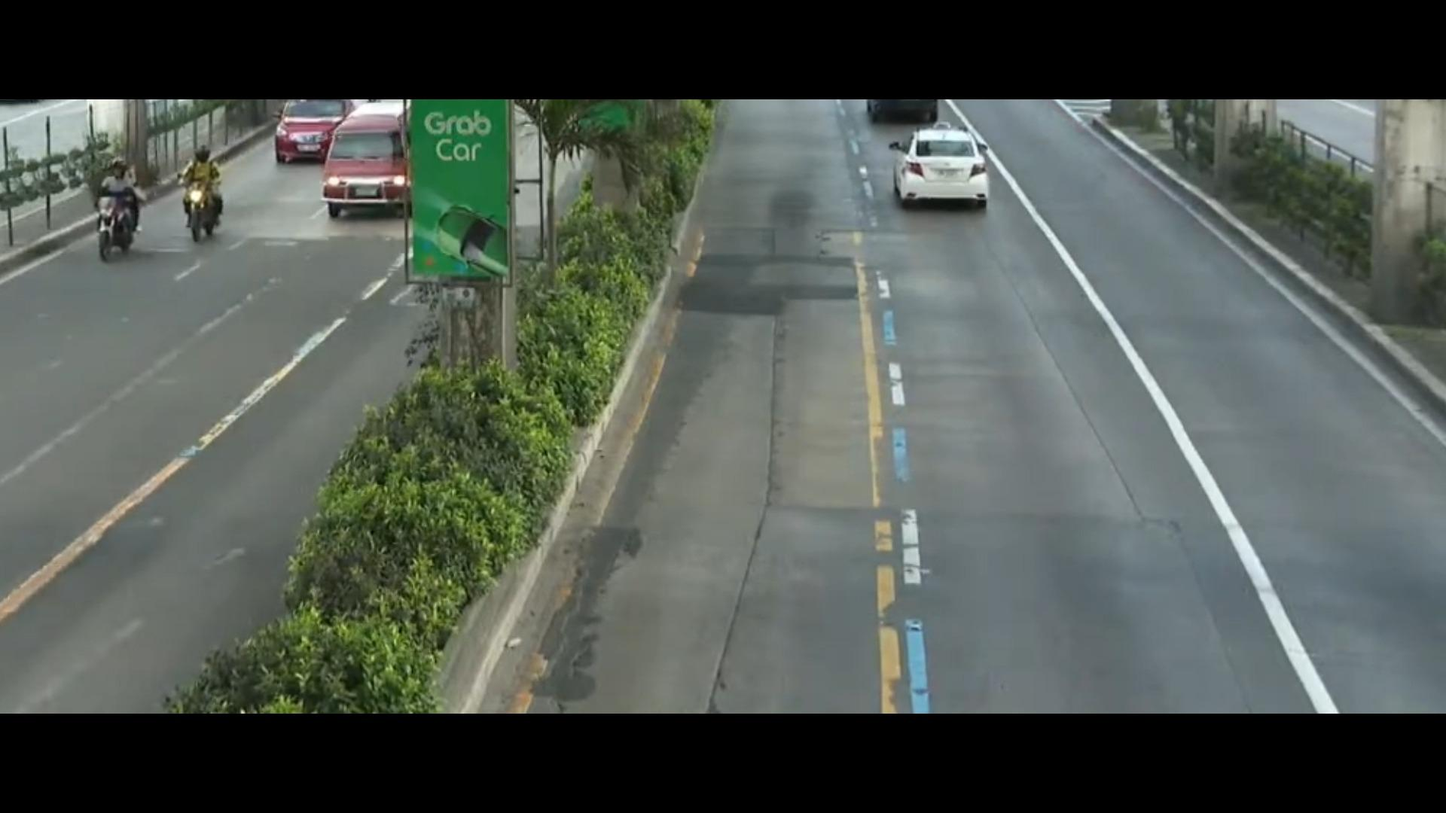Motorcycle: (173, 130, 256, 252), (83, 149, 153, 279)
SUV: (268, 96, 355, 166)
Sedan: (881, 117, 1023, 218)
Van: (319, 102, 416, 222)
